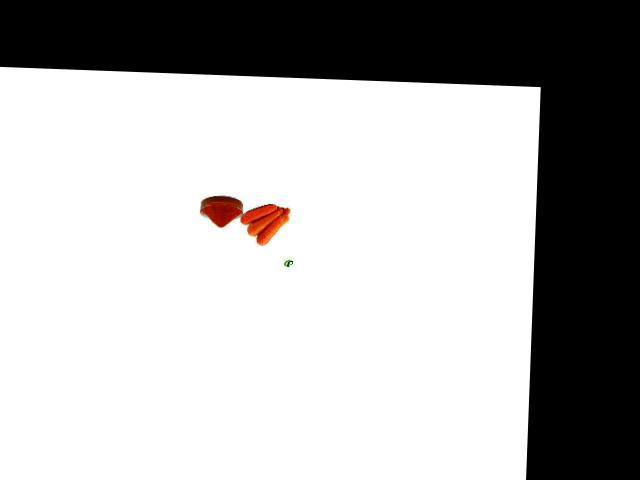carrot: (240, 199, 280, 225)
